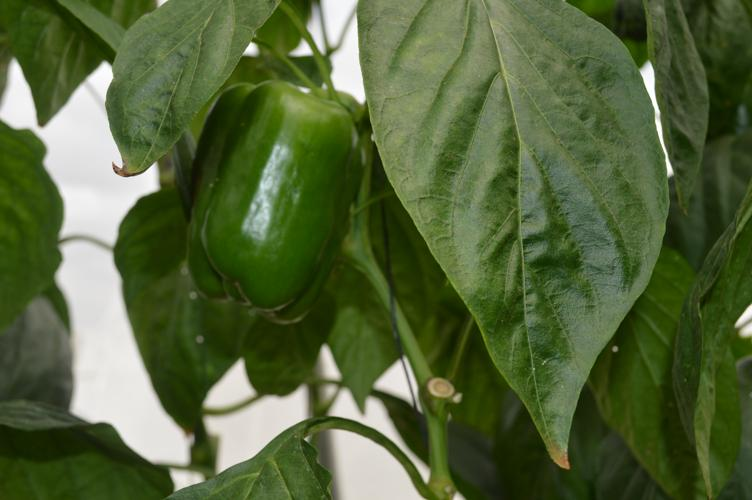BellPepper: (180, 76, 365, 321)
